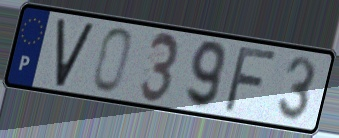0: (90, 25, 138, 96)
3: (137, 30, 182, 106), (275, 54, 319, 124)
9: (183, 39, 229, 111)
F: (220, 45, 282, 115)
V: (53, 17, 97, 89)
